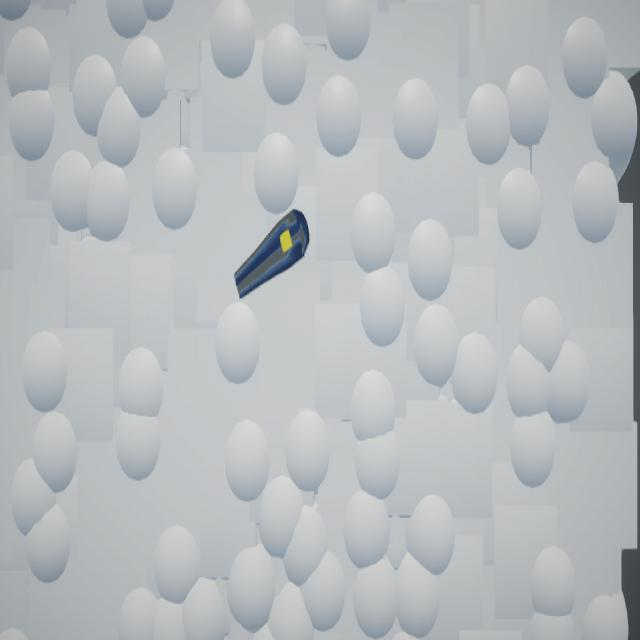handle_knife: (234, 209, 311, 301)
